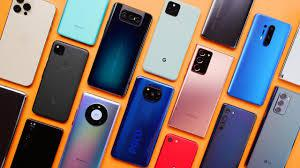Smartphone: (111, 84, 178, 164), (167, 48, 230, 131), (235, 19, 296, 100), (88, 0, 141, 91), (243, 86, 297, 168), (1, 2, 55, 81), (142, 0, 195, 73), (29, 48, 82, 118), (65, 98, 116, 168), (202, 112, 257, 168), (0, 93, 33, 168), (13, 126, 64, 168), (201, 0, 248, 42), (60, 0, 102, 41), (152, 138, 196, 168)
